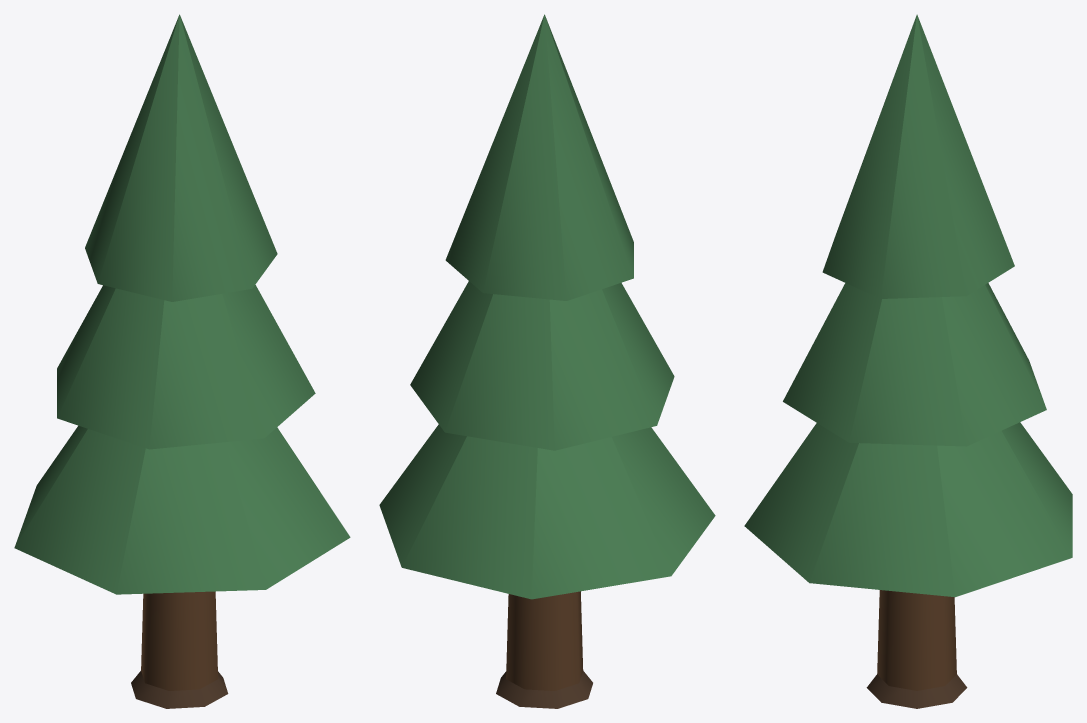
The model's file is pine_l01.glb.
3 renders of one model, left to right at view 1: azimuth 30°, elevation 25°; view 2: azimuth 150°, elevation 25°; view 3: azimuth 270°, elevation 25°, orthographic.
Parts seen in each view (by area): view 1: pine_l01; view 2: pine_l01; view 3: pine_l01.
Boxes of the visible parts, <box> form: pine_l01: <box>14,14,350,708</box>; pine_l01: <box>379,14,715,708</box>; pine_l01: <box>744,14,1072,708</box>.
Size of the model in its own units: 1.46 by 3.23 by 1.43.
